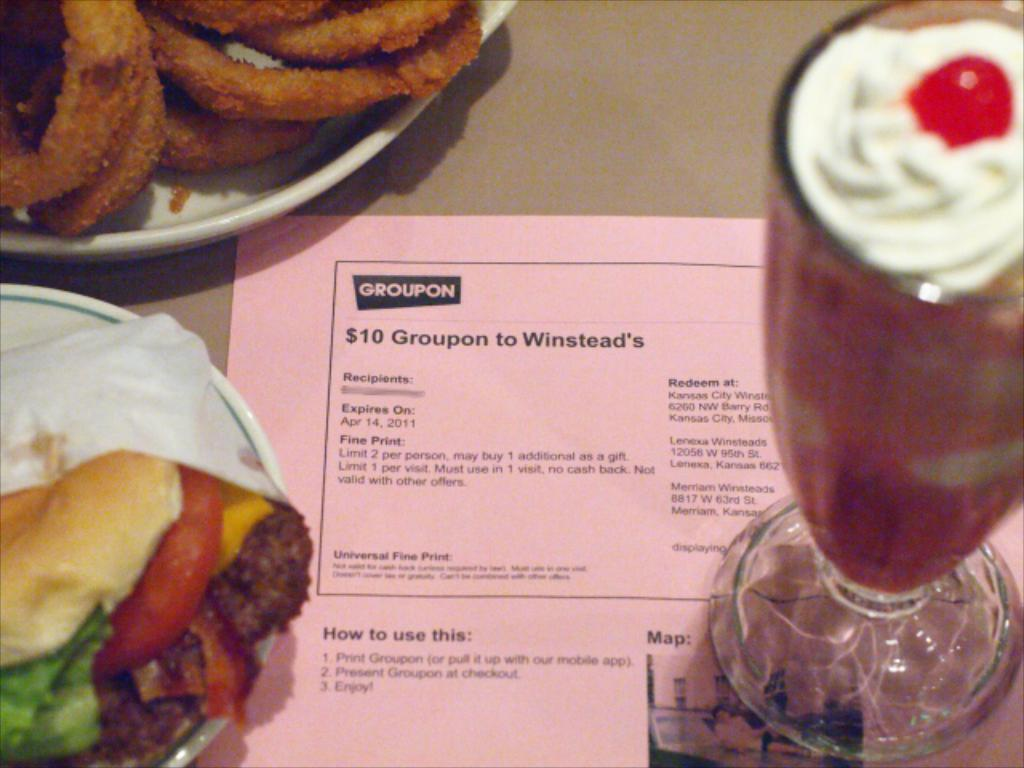Hamburger: (0, 447, 316, 766)
